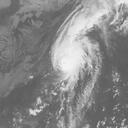cyclone: (50, 35, 96, 77)
